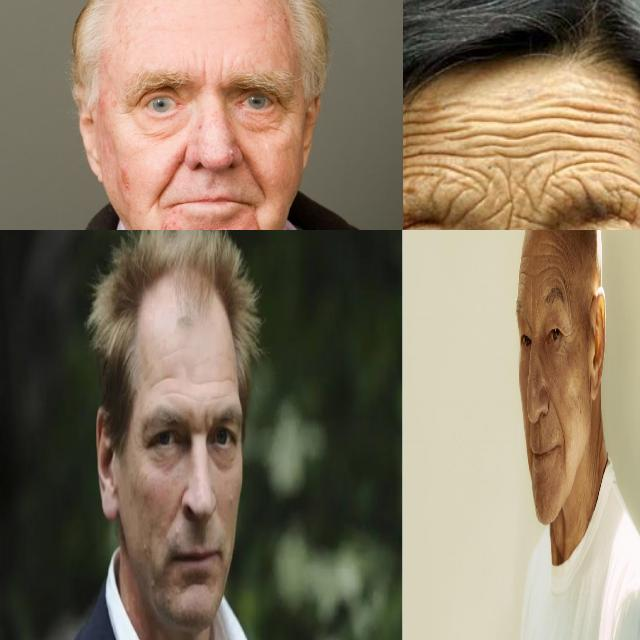chin: (185, 578, 208, 592)
crows_feet: (562, 324, 575, 352)
forehead: (403, 111, 480, 177), (560, 98, 632, 156), (492, 112, 548, 170), (542, 239, 564, 278), (153, 366, 173, 388), (212, 372, 235, 388), (519, 261, 528, 295), (564, 285, 572, 323)
frown_line: (492, 182, 541, 230), (196, 56, 228, 96), (202, 409, 210, 436), (529, 292, 534, 323)
gummy_smile: (158, 145, 188, 203), (238, 144, 268, 196), (550, 392, 565, 432)
sad_smile: (248, 213, 270, 230), (150, 219, 169, 230)
